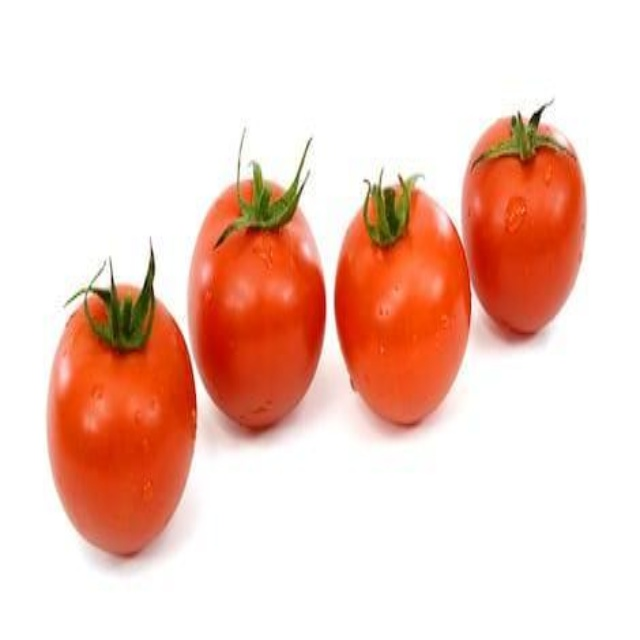tomato: (45, 271, 196, 565), (344, 168, 468, 427), (188, 190, 318, 427), (457, 112, 590, 334)
